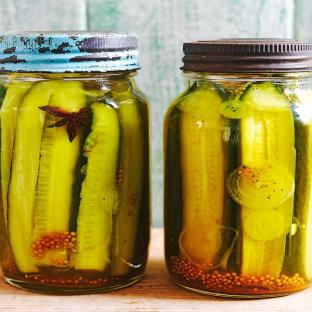Cucumber: (239, 84, 295, 278), (8, 81, 59, 273), (177, 84, 224, 267), (75, 103, 120, 271), (111, 93, 145, 275), (34, 115, 81, 237), (284, 88, 311, 279), (0, 82, 31, 223)
